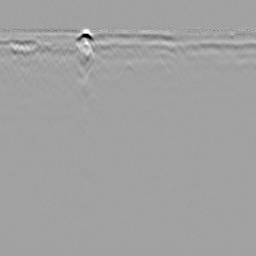cavity: (116, 58, 140, 86)
